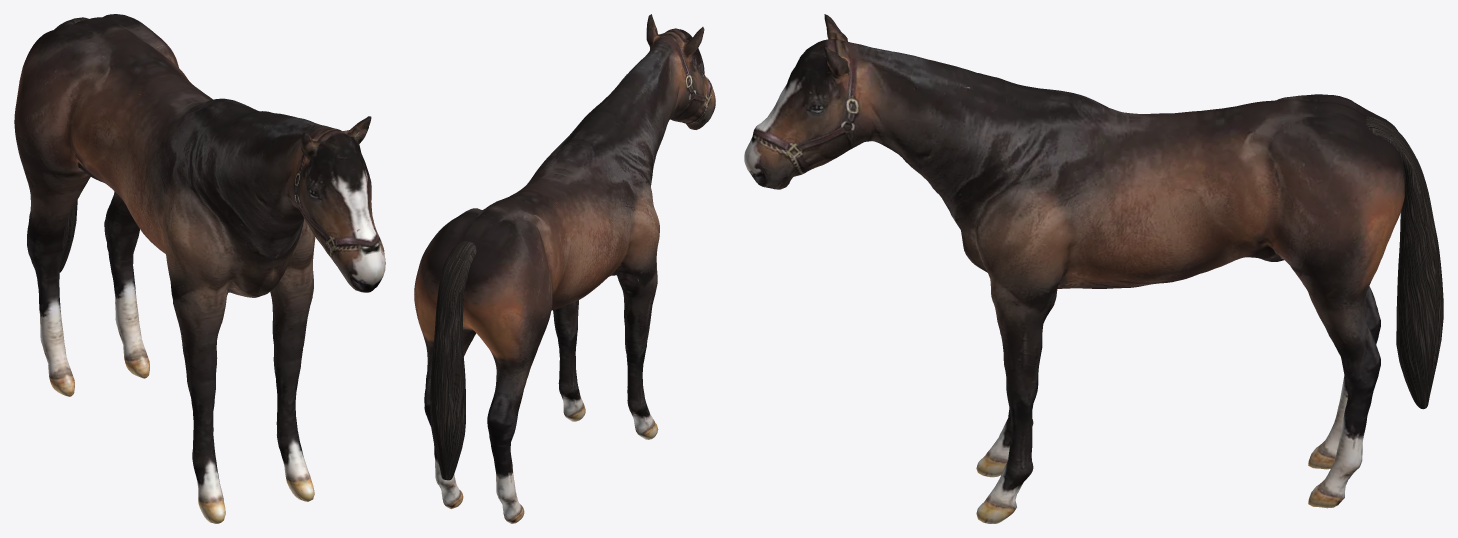
File: horse.glb
The picture shows the model from 3 angles, left to right: view 1: azimuth 30°, elevation 25°; view 2: azimuth 150°, elevation 25°; view 3: azimuth 270°, elevation 25°; orthographic projection. The views are drawn at different scales.
Parts seen in each view (by area): view 1: Mesh_0.002_Material.001_0, Plane.001; view 2: Mesh_0.002_Material.001_0, Plane.001; view 3: Mesh_0.002_Material.001_0, Plane.001.
Part boxes in pixels (box(x1,y1,x2,y2)): Mesh_0.002_Material.001_0: box(14, 14, 385, 523); Plane.001: box(54, 17, 88, 272); Mesh_0.002_Material.001_0: box(414, 14, 715, 523); Plane.001: box(430, 241, 476, 480); Mesh_0.002_Material.001_0: box(744, 14, 1404, 523); Plane.001: box(1364, 116, 1443, 409).
Size of the model in its own units: 2.69 by 7.41 by 9.99.
2 materials, 2 textured.
